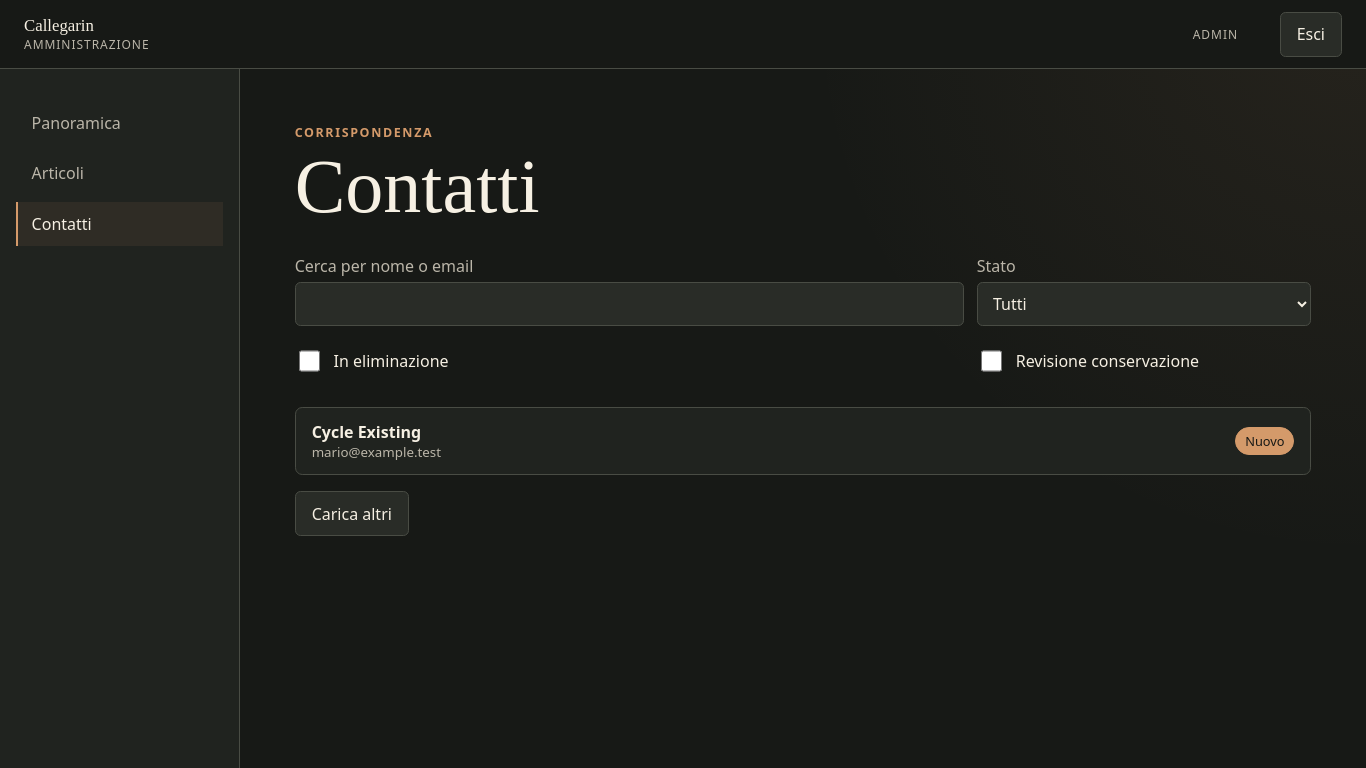
Test: admin shell › makes a cyclic load-more cursor terminal while preserving loaded contacts
Check: the text "Cycle Existing" is shown, box [312,421,421,443]
Step 1. Click the button "Carica altri" → x=352, y=514, box [295,491,409,536]
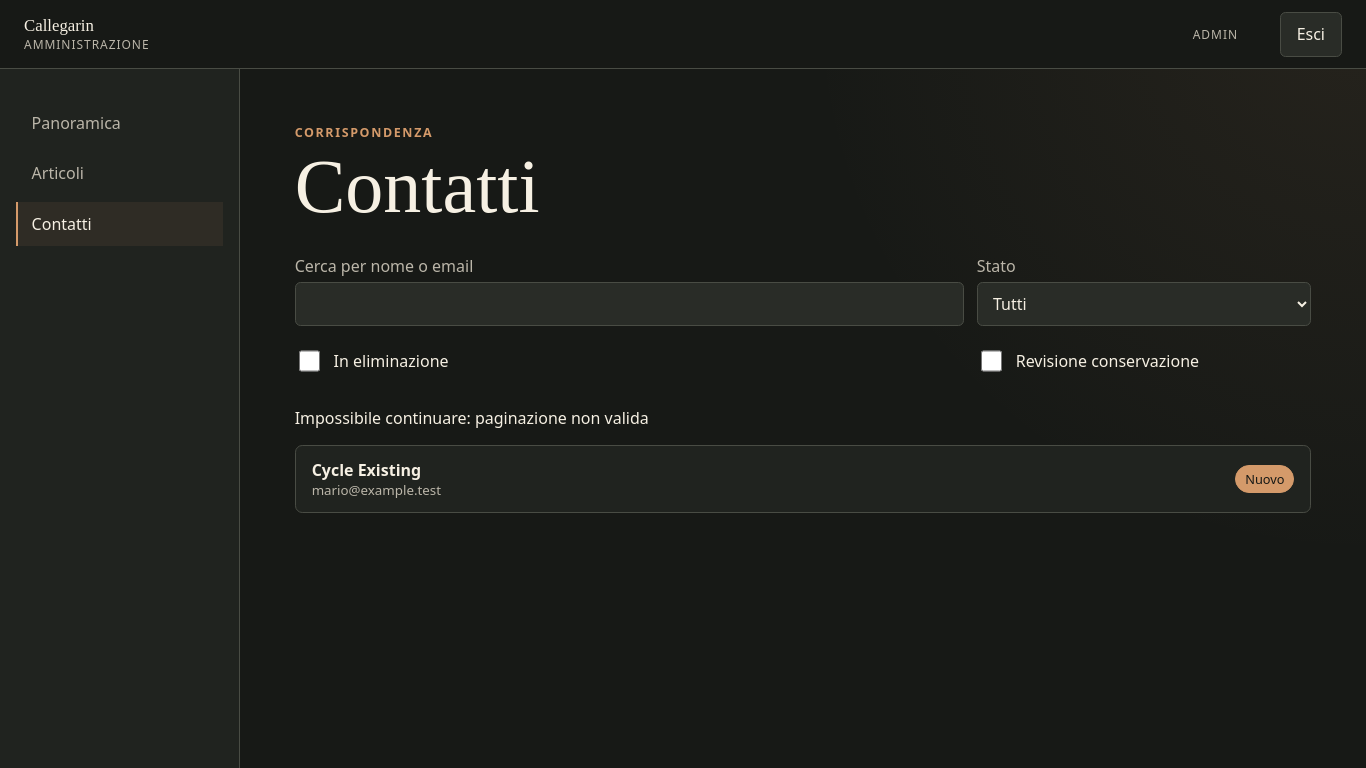
Check: the text "Cycle Existing" is shown, box [312,459,421,481]
Check: the message reads "Impossibile continuare: paginazione non valida", box [295,407,649,429]
